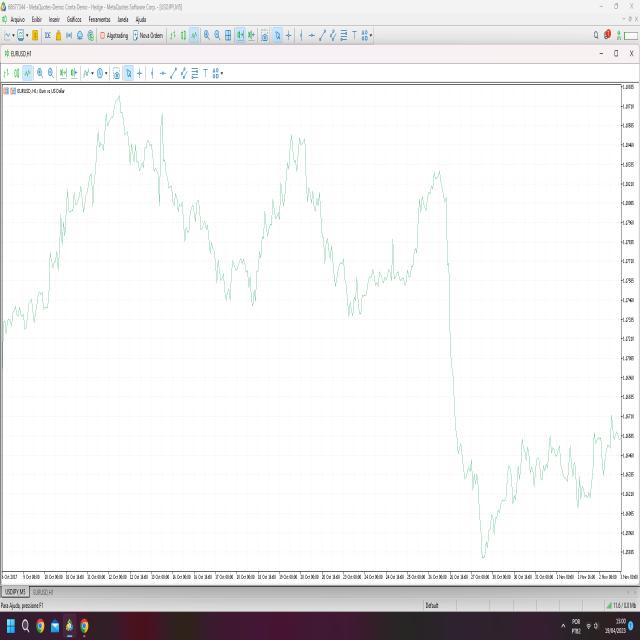bandeira_alta: (43, 239, 67, 326)
bandeira_baixa: (318, 174, 374, 325)
fundo_duplo: (203, 240, 281, 324)
topo_duplo: (275, 119, 320, 214)
